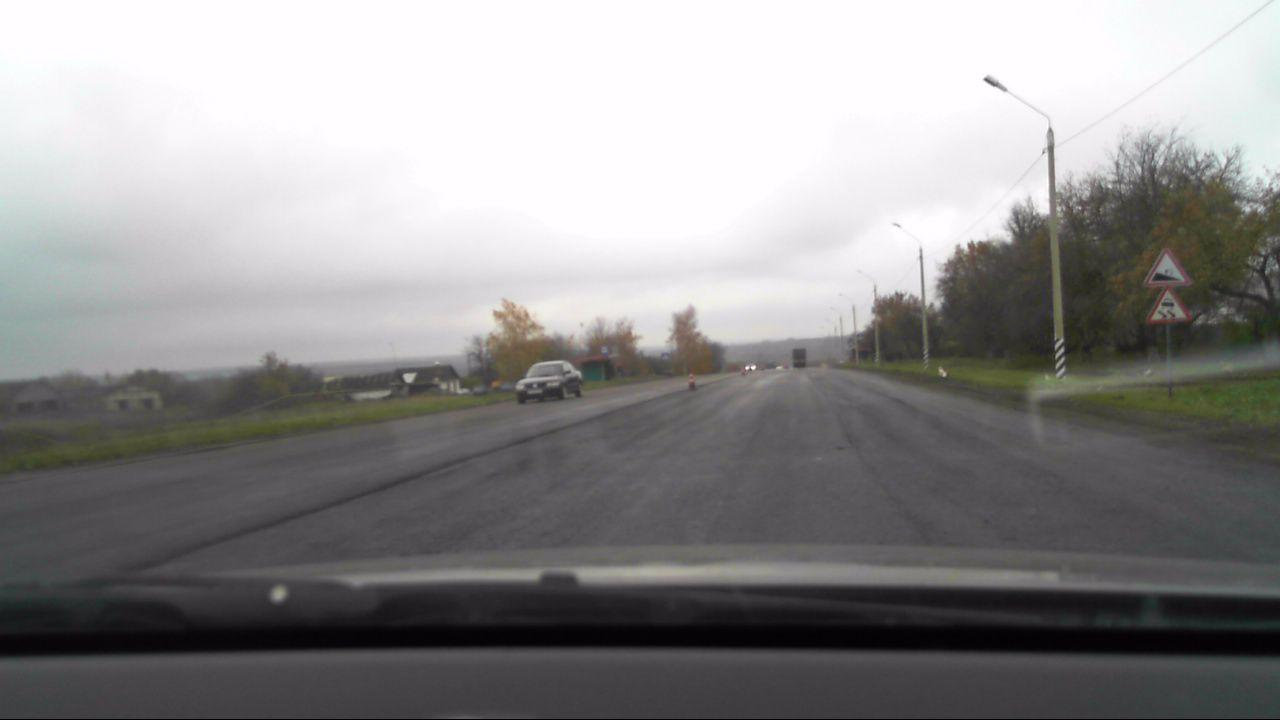1_13: (1143, 247, 1195, 287)
1_15: (1144, 292, 1191, 326)
